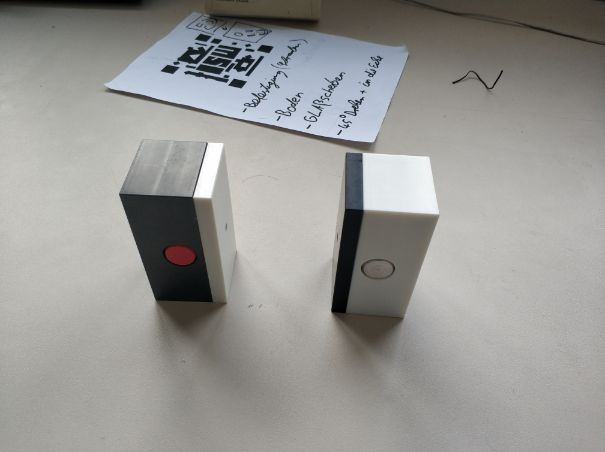black+white+silver: (329, 151, 441, 320)
white+black+red: (117, 137, 239, 305)
